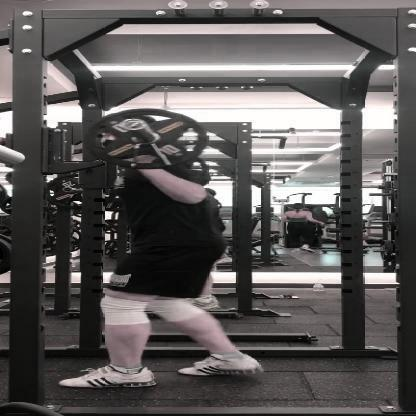Barbell: (121, 118, 147, 131)
